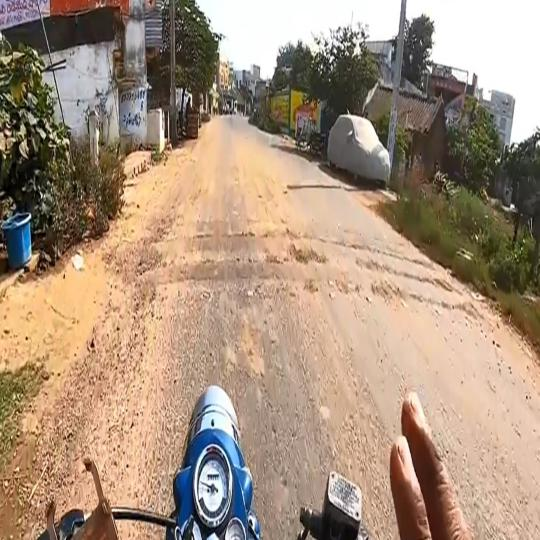Speed Bump: (142, 232, 451, 285), (144, 258, 467, 307)
